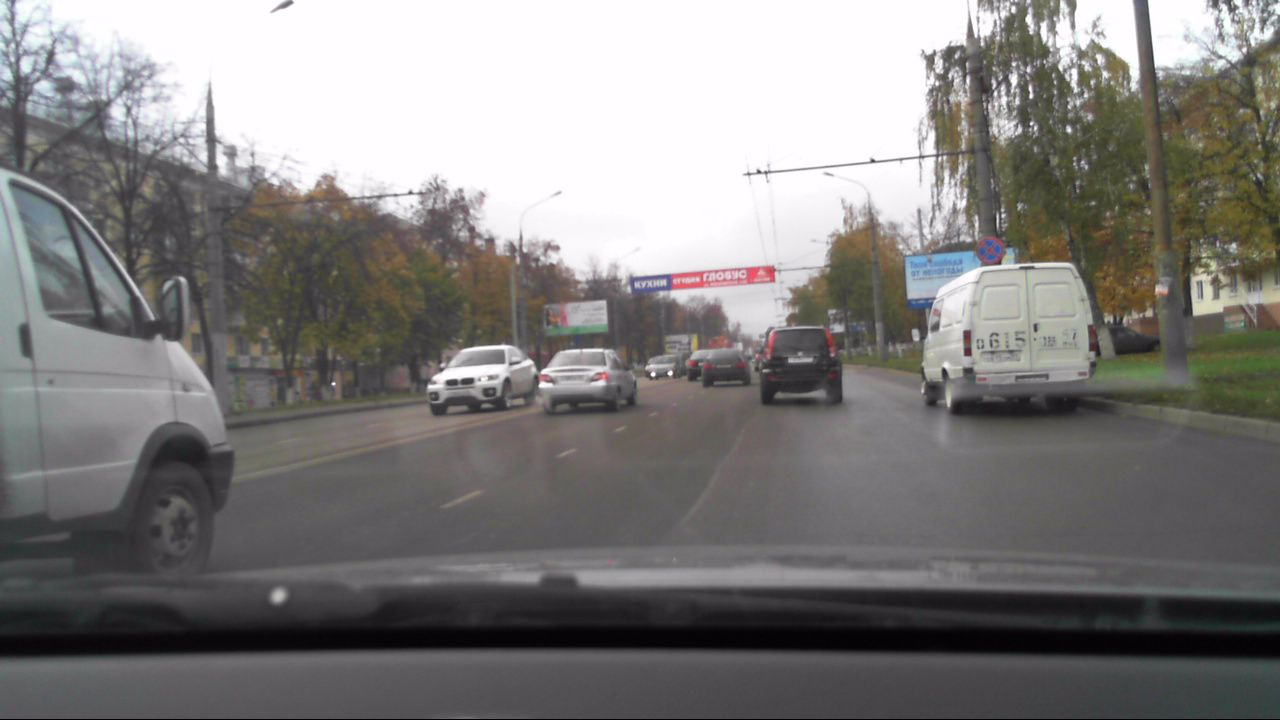No Parking: (973, 235, 1006, 268)
